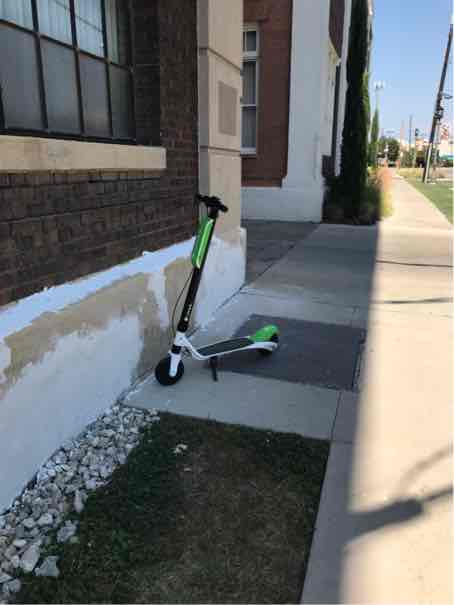scooter: (159, 189, 287, 390)
